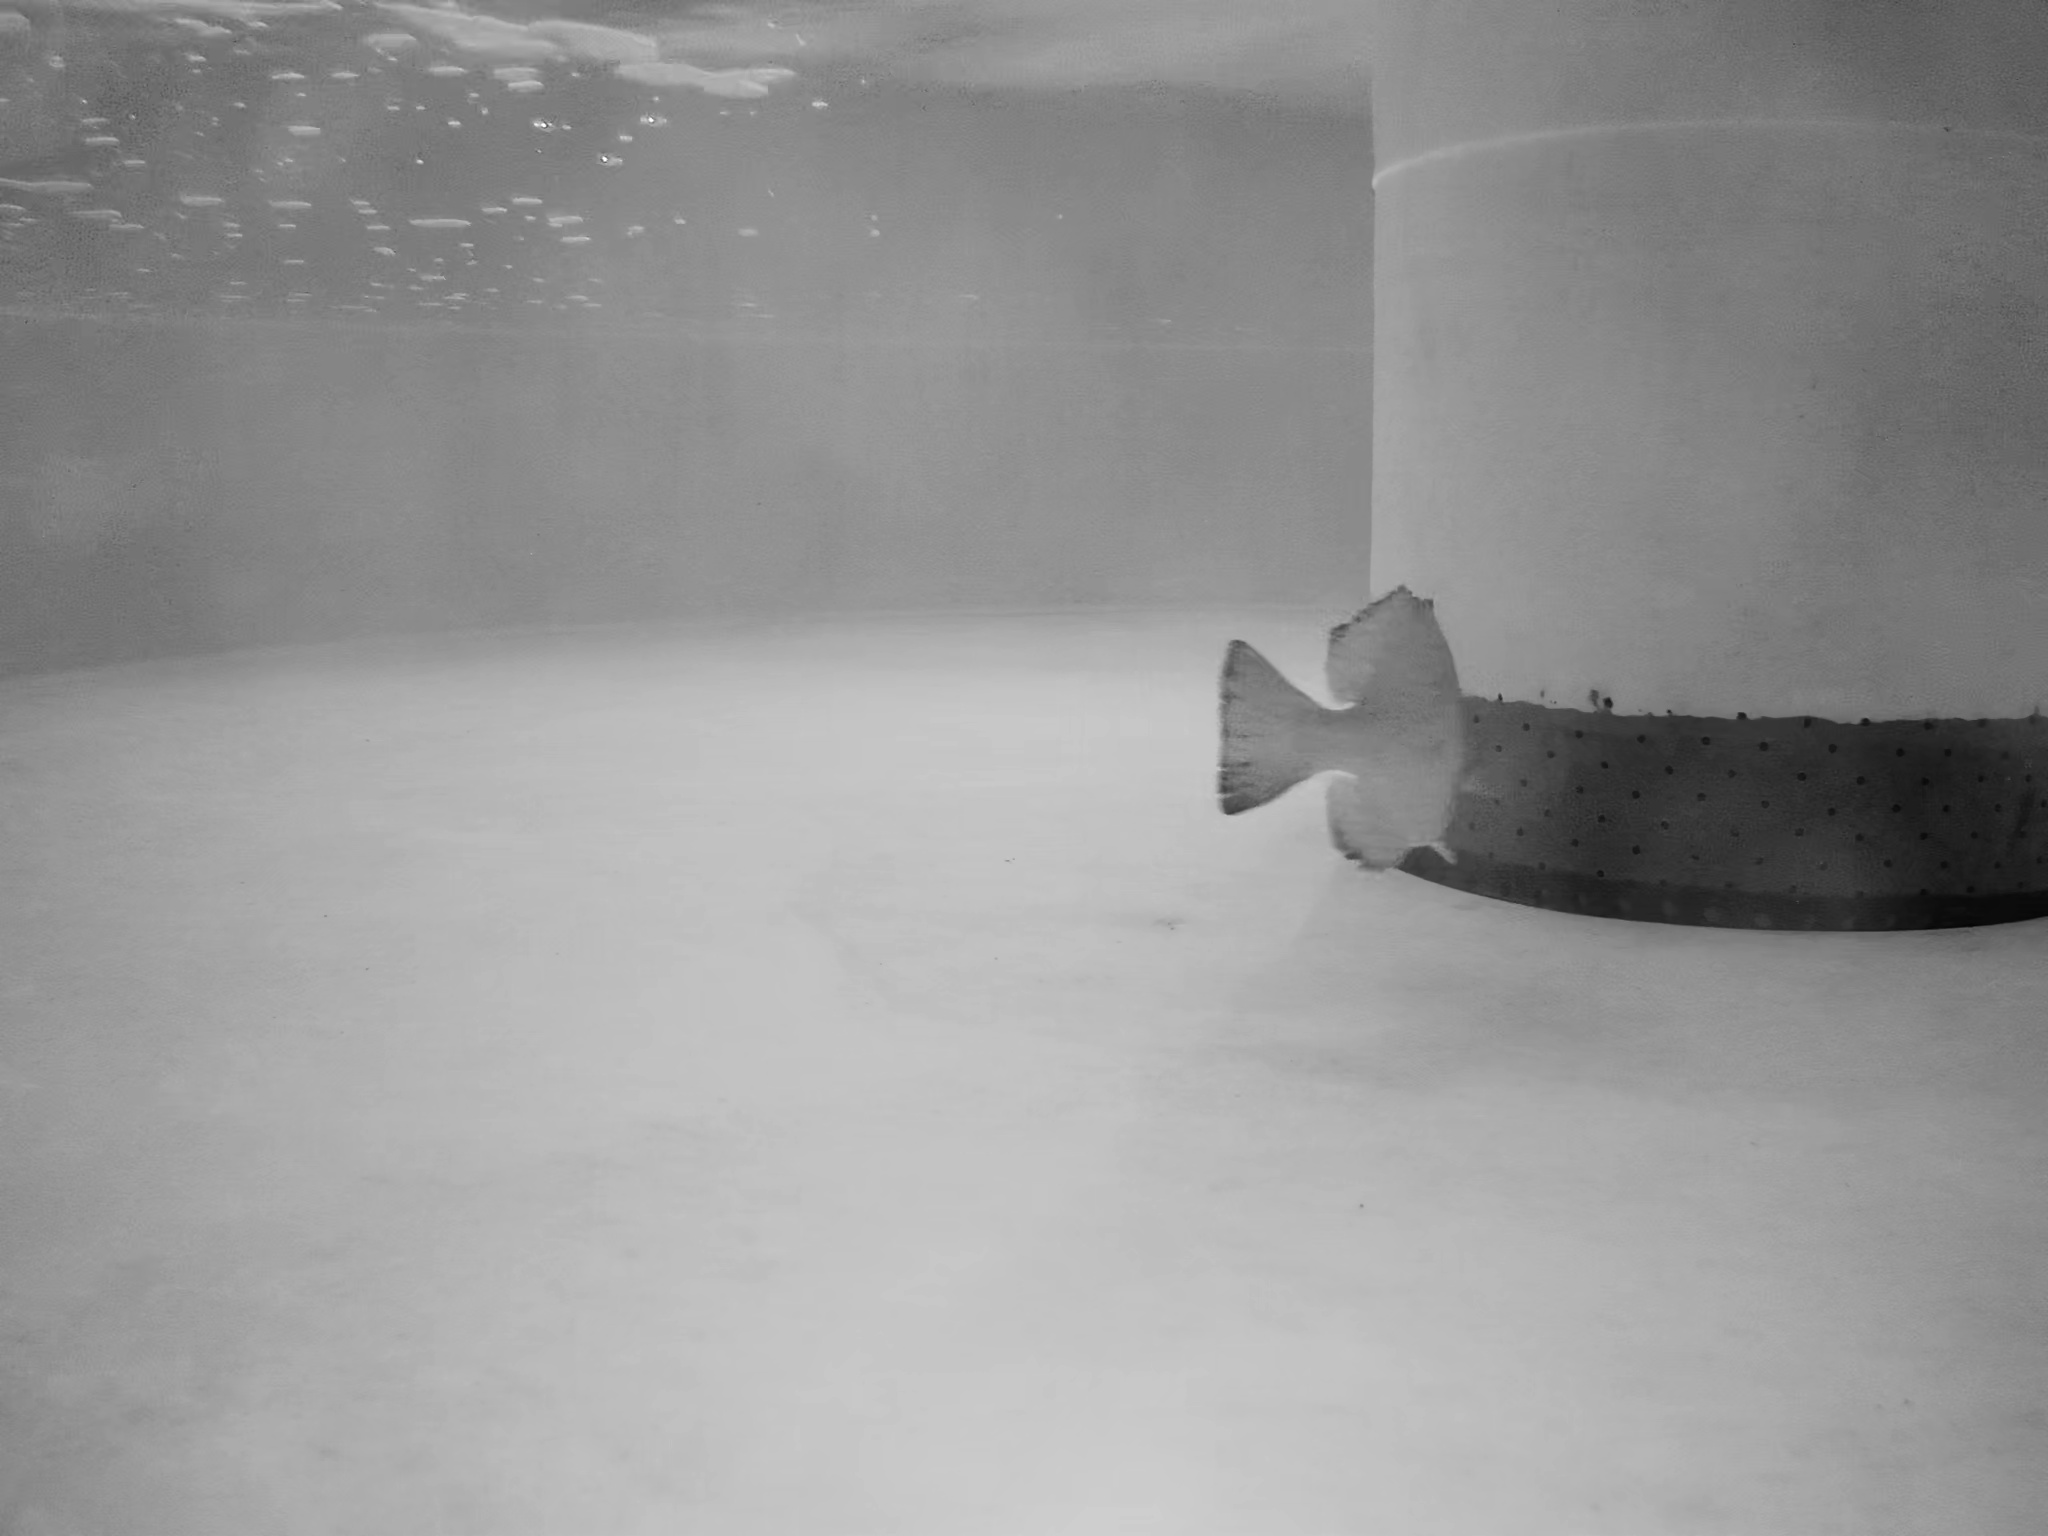fish: (1208, 603, 1484, 860)
